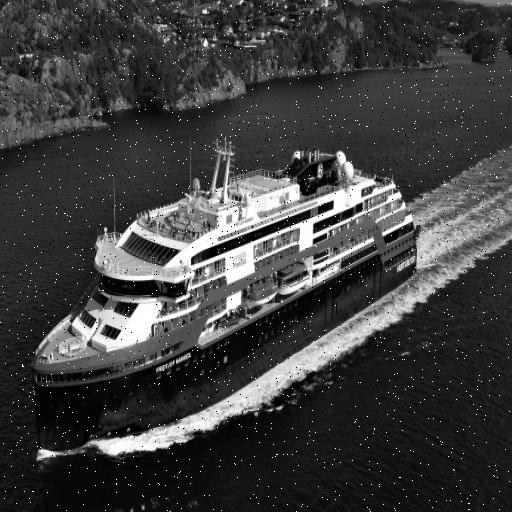cruises: (26, 135, 425, 462)
